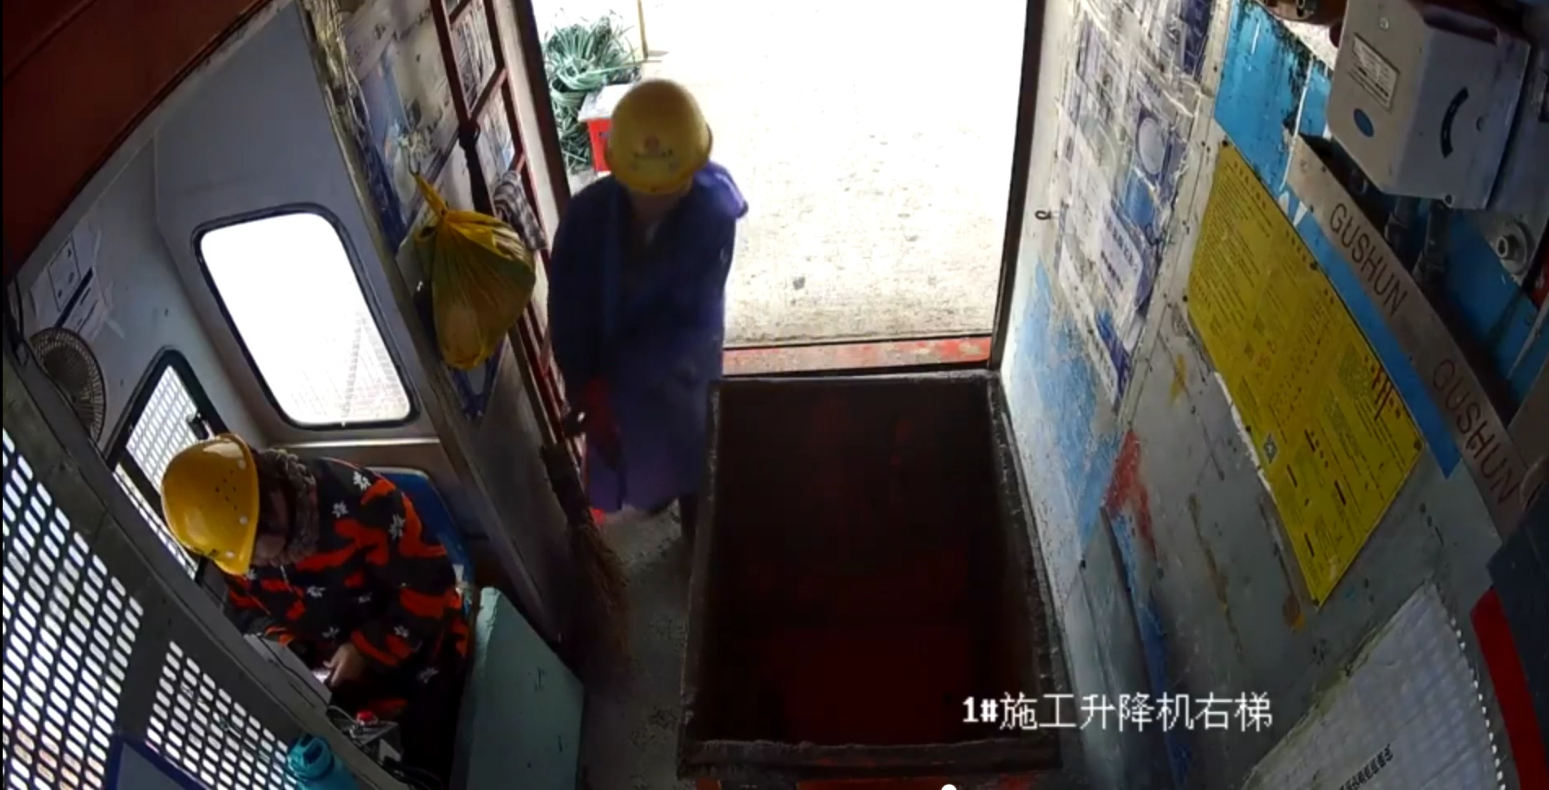person: (160, 432, 475, 786), (544, 78, 755, 543)
